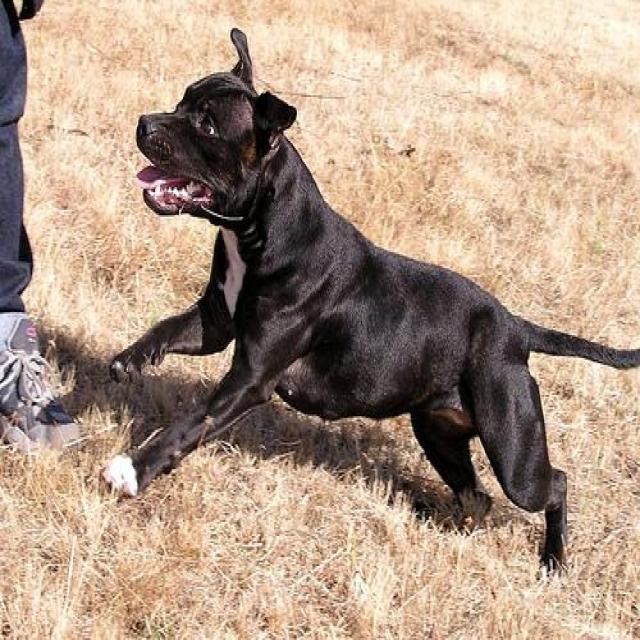staffordshire_bullterrier: (101, 26, 639, 578)
